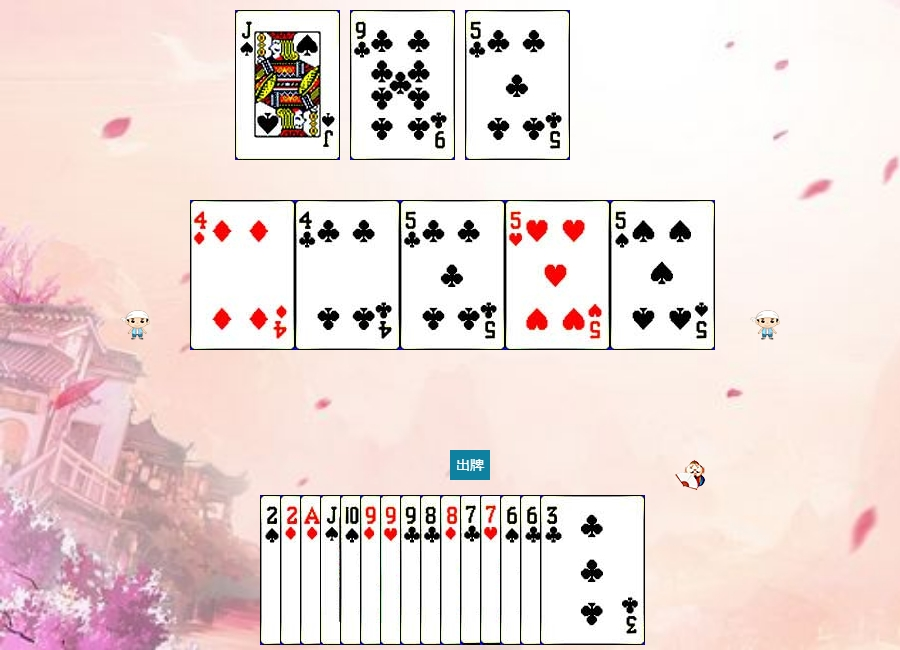10~4: (340, 495, 445, 645)
11~4: (235, 10, 340, 160), (320, 495, 425, 645)
14~1: (300, 495, 405, 645)
15~1: (280, 495, 385, 645)
15~4: (260, 495, 365, 645)
3~2: (540, 495, 645, 645)
4~1: (190, 200, 295, 350)
4~2: (295, 200, 400, 350)
5~2: (465, 10, 570, 160), (400, 200, 505, 350)
5~3: (505, 200, 610, 350)
5~4: (610, 200, 715, 350)
6~2: (520, 495, 625, 645)
6~4: (500, 495, 605, 645)
7~2: (460, 495, 565, 645)
7~3: (480, 495, 585, 645)
8~1: (440, 495, 545, 645)
8~2: (420, 495, 525, 645)
9~1: (360, 495, 465, 645)
9~2: (350, 10, 455, 160), (400, 495, 505, 645)
9~3: (380, 495, 485, 645)
